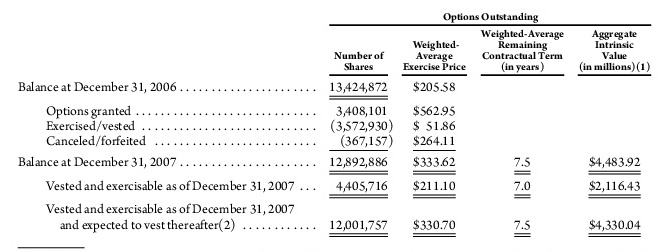table: (0, 0, 666, 252)
